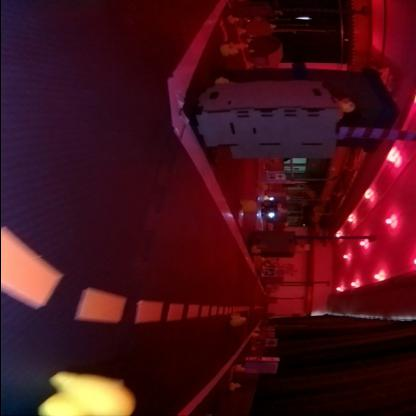Duckie: (59, 371, 135, 414), (336, 97, 354, 116), (220, 43, 238, 56), (230, 312, 247, 324), (242, 199, 256, 211), (230, 382, 242, 390), (228, 14, 239, 22), (236, 364, 244, 370)
Duckiebot: (263, 197, 277, 219)
